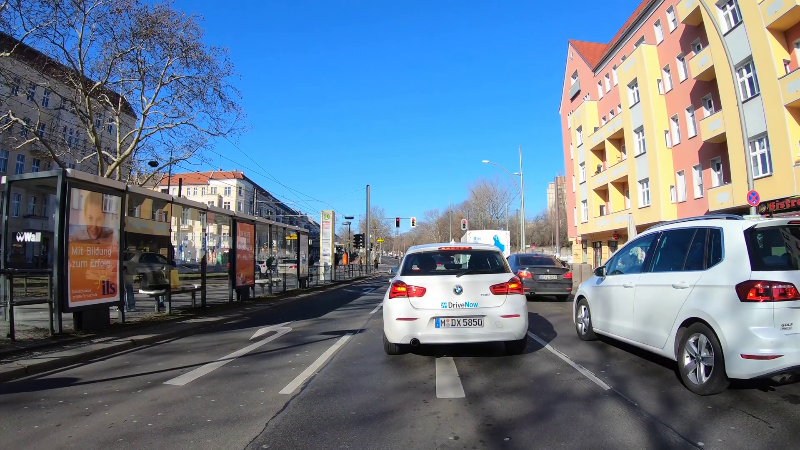Plate: (432, 314, 486, 329)
